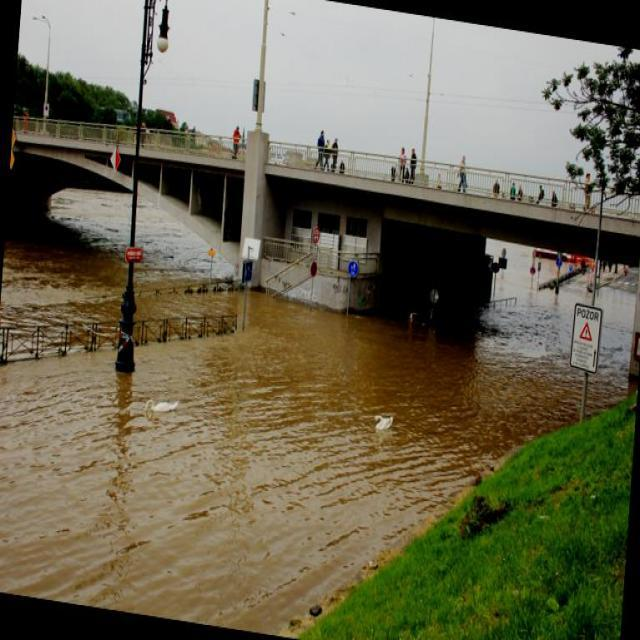flood: (0, 246, 628, 638)
